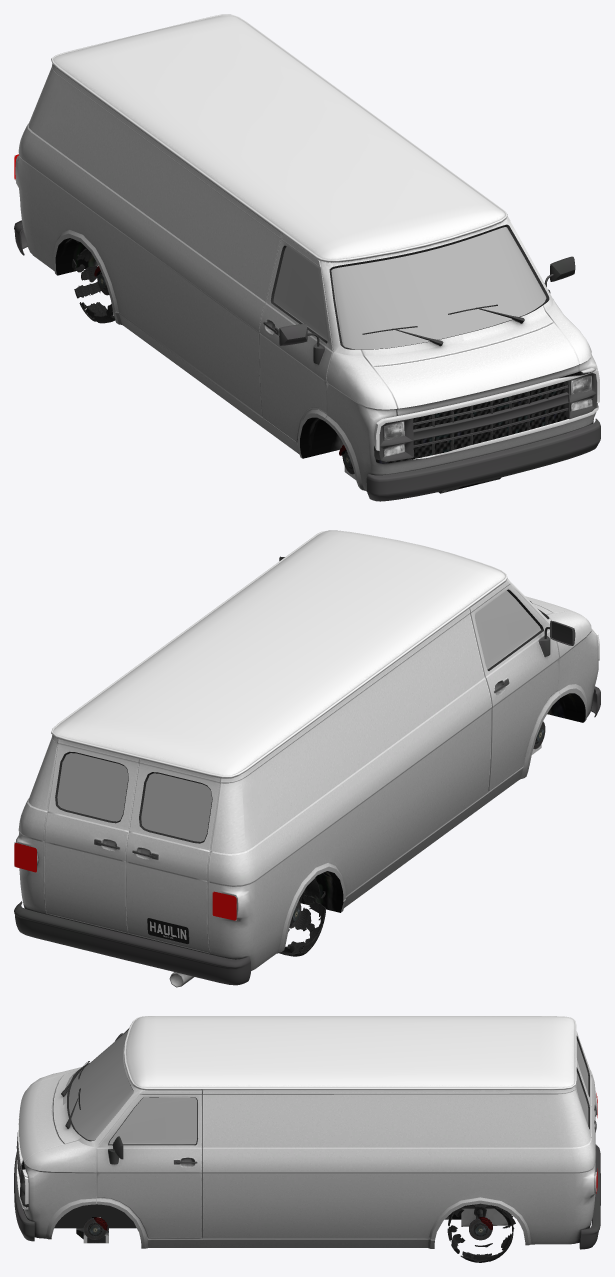
File: 20_Van.fbx
3 views of the same model, one above another, from view 1: azimuth 30°, elevation 25°; view 2: azimuth 150°, elevation 25°; view 3: azimuth 270°, elevation 25° (orthographic). The views are drawn at different scales.
Parts seen in each view (by area): view 1: Body_Duco, Body_Glass, Body_Chrome, Body_Matte, Body_Glossy; view 2: Body_Duco, Body_Glass, Body_Chrome, Body_Matte, BrakeLights, NumberPlate; view 3: Body_Duco, Body_Glass, Body_Matte, Body_Chrome, Rotor (×2).
Part boxes in pixels (<box>): Body_Duco: <box>15,14,597,491</box>; Body_Glass: <box>273,227,546,349</box>; Body_Chrome: <box>14,220,600,501</box>; Body_Matte: <box>55,224,568,493</box>; Body_Glossy: <box>384,376,592,456</box>; Body_Duco: <box>15,530,598,970</box>; Body_Glass: <box>57,590,540,841</box>; Body_Chrome: <box>14,556,600,985</box>; Body_Matte: <box>55,589,585,987</box>; BrakeLights: <box>14,842,236,920</box>; NumberPlate: <box>147,918,189,943</box>; Body_Duco: <box>19,1016,597,1248</box>; Body_Glass: <box>69,1030,588,1144</box>; Body_Matte: <box>25,1028,589,1243</box>; Body_Chrome: <box>14,1033,600,1249</box>; Rotor (×2): <box>83,1218,492,1240</box>.
Size of what is drawn, in the model's own units: 2.41 by 1.78 by 5.28.
